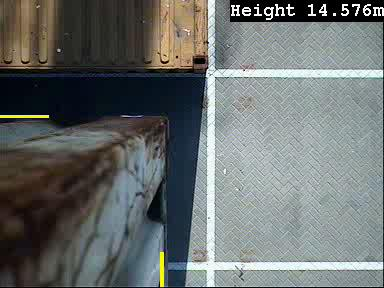groundmarker_2: (193, 37, 248, 113)
